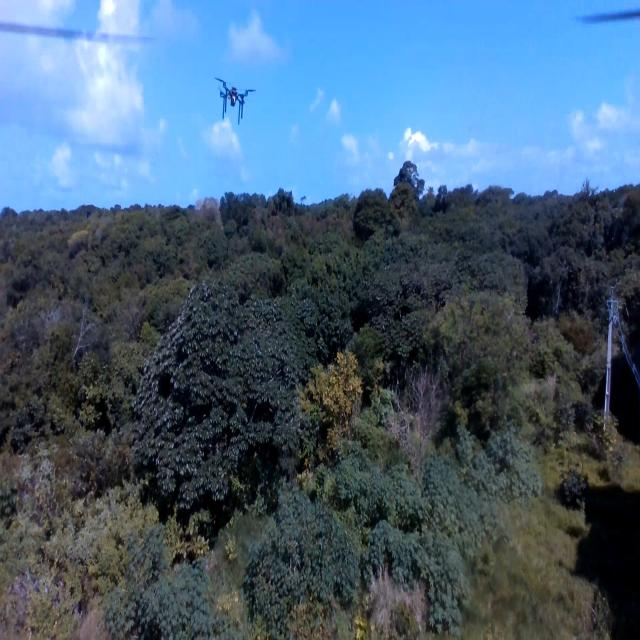-uav-: (209, 64, 261, 145)
